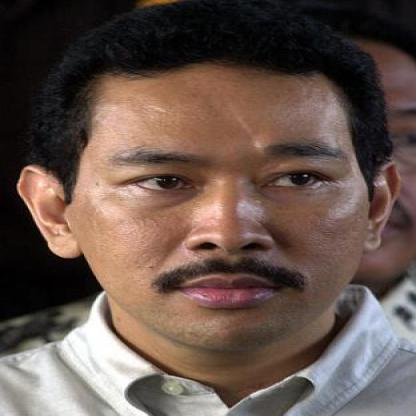face: (66, 18, 377, 354)
